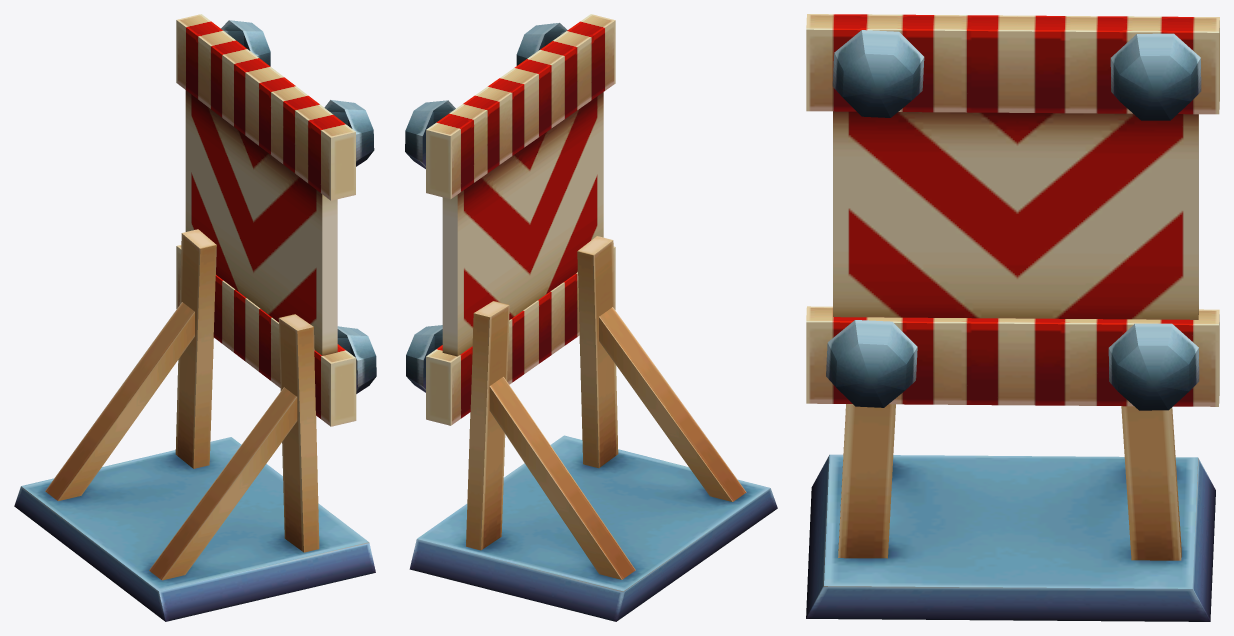
File: obstacle1.fbx
3 views of the same model, side by side, from view 1: azimuth 30°, elevation 25°; view 2: azimuth 150°, elevation 25°; view 3: azimuth 270°, elevation 25° (orthographic). The views are drawn at different scales.
Parts seen in each view (by area): view 1: StaticMeshActor_243; view 2: StaticMeshActor_243; view 3: StaticMeshActor_243.
Boxes of the visible parts, x1,y1,x2,y2 form: StaticMeshActor_243: (14, 14, 376, 621); StaticMeshActor_243: (405, 14, 777, 621); StaticMeshActor_243: (806, 14, 1219, 621).
Size of the model in its own units: 169 by 263 by 144.
1 material, 1 textured.
